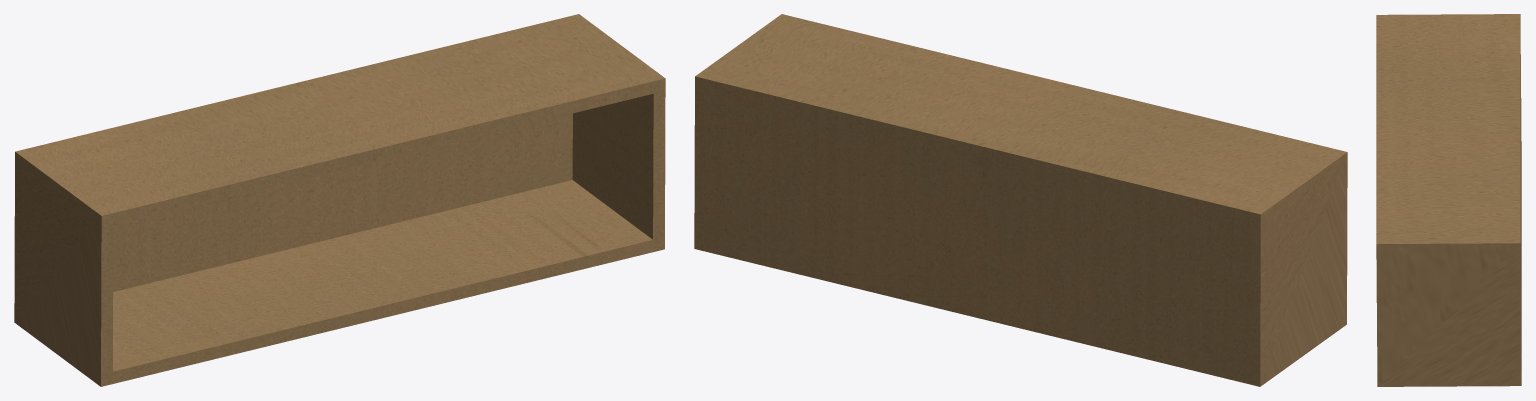
File: Estanteria.fbx
The picture shows the model from 3 angles, left to right: view 1: azimuth 30°, elevation 25°; view 2: azimuth 150°, elevation 25°; view 3: azimuth 270°, elevation 25°; orthographic projection. The views are drawn at different scales.
Parts seen in each view (by area): view 1: Box; view 2: Box; view 3: Box.
Boxes of the visible parts, x1,y1,x2,y2 form: Box: [14, 14, 665, 386]; Box: [694, 14, 1347, 386]; Box: [1376, 14, 1521, 386].
Size of the model in its own units: 104 by 30.45 by 27.88.
1 material, 1 textured.
